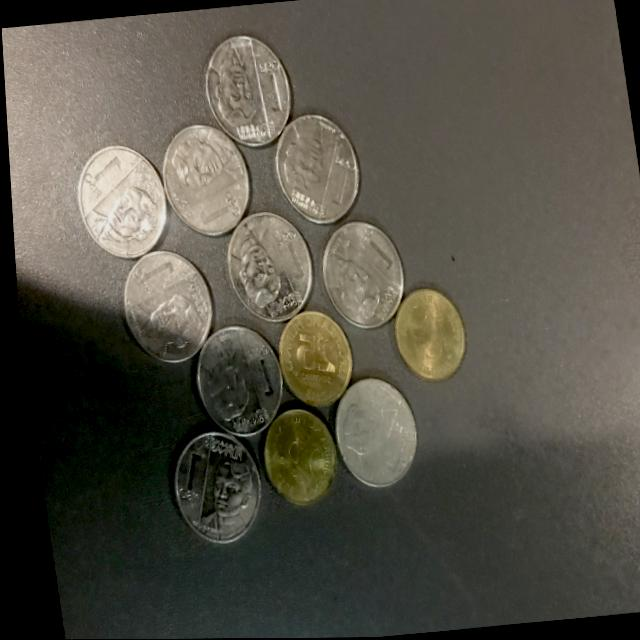1_New_Front: (204, 36, 307, 141), (70, 137, 165, 250), (270, 116, 362, 221), (122, 253, 208, 356), (166, 116, 250, 221), (189, 326, 276, 426), (226, 215, 309, 312), (168, 440, 251, 534), (324, 223, 397, 324)
25Cent_Old_Front: (270, 306, 346, 401), (258, 411, 330, 499)
